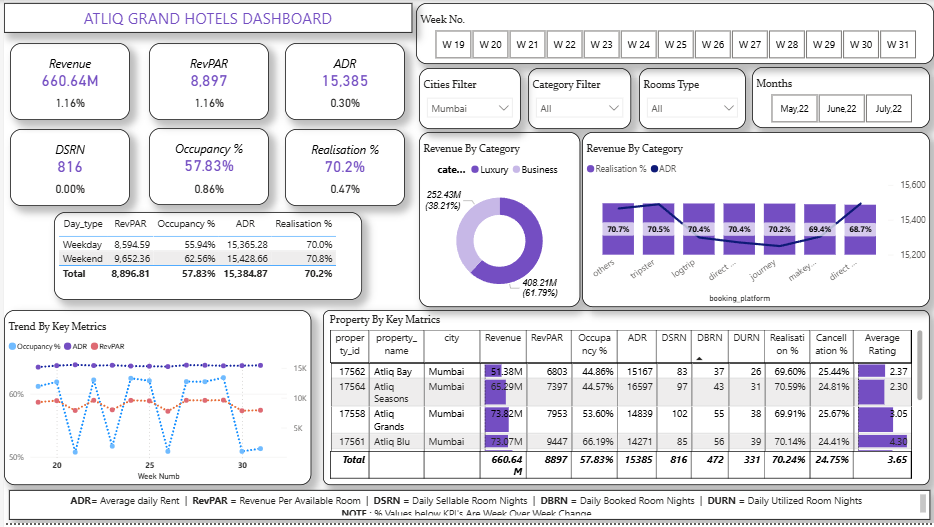

This screenshot's page, from the dashboard's own definition file:
{"tool":"powerbi","page":{"name":"Page 1","canvas":[1280,720],"ordinal":0},"visuals":[{"type":"tableEx","title":"Property By Key Matrics","fields":{"Values":["dim_hotels.property_id","dim_hotels.property_name","dim_hotels.city","Key_measures.Revenue","Key_measures.RevPAR(Revenue Per Available Room)","Key_measures.Occupancy %","Key_measures.ADR(Average daily rate)","Key_measures.DSRN(sellable)","Key_measures.DBRN(Daily Booked Night Rooms)","Key_measures.DURN","Key_measures.Realisation %","Key_measures.Cancellation %"]},"box":[439.1,426.7,835.4,240.9],"z":0},{"type":"slicer","title":"Category Filter","fields":{"Values":["dim_hotels.category"]},"box":[721.2,93.6,141.8,84],"z":1000},{"type":"slicer","title":"Rooms Type","fields":{"Values":["dim_rooms.room_class"]},"box":[874,93.6,147.3,84],"z":2000},{"type":"slicer","title":"Months","fields":{"Values":["dim_date.mmm yy"]},"box":[1029.5,92.2,245,84],"z":3000},{"type":"slicer","title":"Week No.","fields":{"Values":["dim_date.week no"]},"box":[567.1,4.1,712.9,84],"z":4000},{"type":"cardVisual","fields":{"Data":["Key_measures.Revenue"]},"box":[8.3,59.2,165,106],"z":5000},{"type":"donutChart","title":"Revenue By Category","fields":{"Y":["Key_measures.Revenue"],"Category":["dim_hotels.category"]},"box":[571.2,181.7,221.6,240.9],"z":6000},{"type":"lineChart","title":"Trend By Key Metrics","fields":{"Y":["Key_measures.Occupancy %"],"Y2":["Key_measures.ADR","Key_measures.RevPAR"],"Category":["dim_date.Week Numb"]},"box":[0,426.7,422.5,240.9],"z":7000},{"type":"lineStackedColumnComboChart","title":"Revenue By Category","fields":{"Category":["fact_bookings.booking_platform"],"Y":["Key_measures.Realisation %"],"Y2":["Key_measures.ADR(Average daily rate)"]},"box":[795.5,181.7,479,240.9],"z":8000},{"type":"textbox","box":[6.9,674.4,1267.6,41.3],"z":9000},{"type":"textbox","box":[0,4.1,561.5,41.3],"z":10000},{"type":"slicer","title":"Cities Filter","fields":{"Values":["dim_hotels.city"]},"box":[571.2,93.6,140,84],"z":11000},{"type":"card","fields":{"Values":["Key_measures.Revenue WOW Change %"]},"box":[28.9,112.9,123.9,60.6],"z":12000},{"type":"tableEx","fields":{"Values":["dim_date.Day_type","Key_measures.RevPAR","Key_measures.Occupancy %","Key_measures.ADR","Key_measures.Realisation %"]},"box":[68.8,291.8,423.9,121.1],"z":13000},{"type":"cardVisual","fields":{"Data":["Key_measures.DSRN"]},"box":[8.3,177.5,165,106],"z":14000},{"type":"cardVisual","fields":{"Data":["Key_measures.Occupancy %"]},"box":[199.6,176.2,165.2,106],"z":15000},{"type":"cardVisual","fields":{"Data":["Key_measures.Realisation %"]},"box":[386.8,177.5,165.2,106],"z":16000},{"type":"cardVisual","fields":{"Data":["Key_measures.RevPAR"]},"box":[199.6,59.2,165.2,106],"z":17000},{"type":"cardVisual","fields":{"Data":["Key_measures.ADR"]},"box":[386.8,59.2,165,106],"z":18000},{"type":"card","fields":{"Values":["Key_measures.Realisation WoW change %"]},"box":[407.4,231.2,123.9,60.6],"z":19000},{"type":"card","fields":{"Values":["Key_measures.Occupancy WoW change %"]},"box":[220.2,231.2,123.9,60.6],"z":20000},{"type":"card","fields":{"Values":["Key_measures.DSRN WoW change %"]},"box":[28.9,231.2,123.9,60.6],"z":21000},{"type":"card","fields":{"Values":["Key_measures.ADR WoW change %"]},"box":[407.4,112.9,123.9,60.6],"z":22000},{"type":"card","fields":{"Values":["Key_measures.Revpar WoW change %"]},"box":[220.2,112.9,123.9,60.6],"z":23000}]}

Visuals, with their boxes in screenshot pixels (x1, y1, x2, y2), scaled from the page's 1280x720 canvas onto the 934x527 screenshot:
"Property By Key Matrics" tableEx: [x1=320, y1=312, x2=930, y2=489]
"Category Filter" slicer: [x1=526, y1=69, x2=630, y2=130]
"Rooms Type" slicer: [x1=638, y1=69, x2=745, y2=130]
"Months" slicer: [x1=751, y1=67, x2=930, y2=129]
"Week No." slicer: [x1=414, y1=3, x2=933, y2=64]
cardVisual - Key_measures.Revenue: [x1=6, y1=43, x2=126, y2=121]
"Revenue By Category" donutChart: [x1=417, y1=133, x2=578, y2=309]
"Trend By Key Metrics" lineChart: [x1=0, y1=312, x2=308, y2=489]
"Revenue By Category" lineStackedColumnComboChart: [x1=580, y1=133, x2=930, y2=309]
textbox: [x1=5, y1=494, x2=930, y2=524]
textbox: [x1=0, y1=3, x2=410, y2=33]
"Cities Filter" slicer: [x1=417, y1=69, x2=519, y2=130]
card - Key_measures.Revenue WOW Change %: [x1=21, y1=83, x2=111, y2=127]
tableEx - dim_date.Day_type x Key_measures.RevPAR: [x1=50, y1=214, x2=360, y2=302]
cardVisual - Key_measures.DSRN: [x1=6, y1=130, x2=126, y2=208]
cardVisual - Key_measures.Occupancy %: [x1=146, y1=129, x2=266, y2=207]
cardVisual - Key_measures.Realisation %: [x1=282, y1=130, x2=403, y2=208]
cardVisual - Key_measures.RevPAR: [x1=146, y1=43, x2=266, y2=121]
cardVisual - Key_measures.ADR: [x1=282, y1=43, x2=403, y2=121]
card - Key_measures.Realisation WoW change %: [x1=297, y1=169, x2=388, y2=214]
card - Key_measures.Occupancy WoW change %: [x1=161, y1=169, x2=251, y2=214]
card - Key_measures.DSRN WoW change %: [x1=21, y1=169, x2=111, y2=214]
card - Key_measures.ADR WoW change %: [x1=297, y1=83, x2=388, y2=127]
card - Key_measures.Revpar WoW change %: [x1=161, y1=83, x2=251, y2=127]
